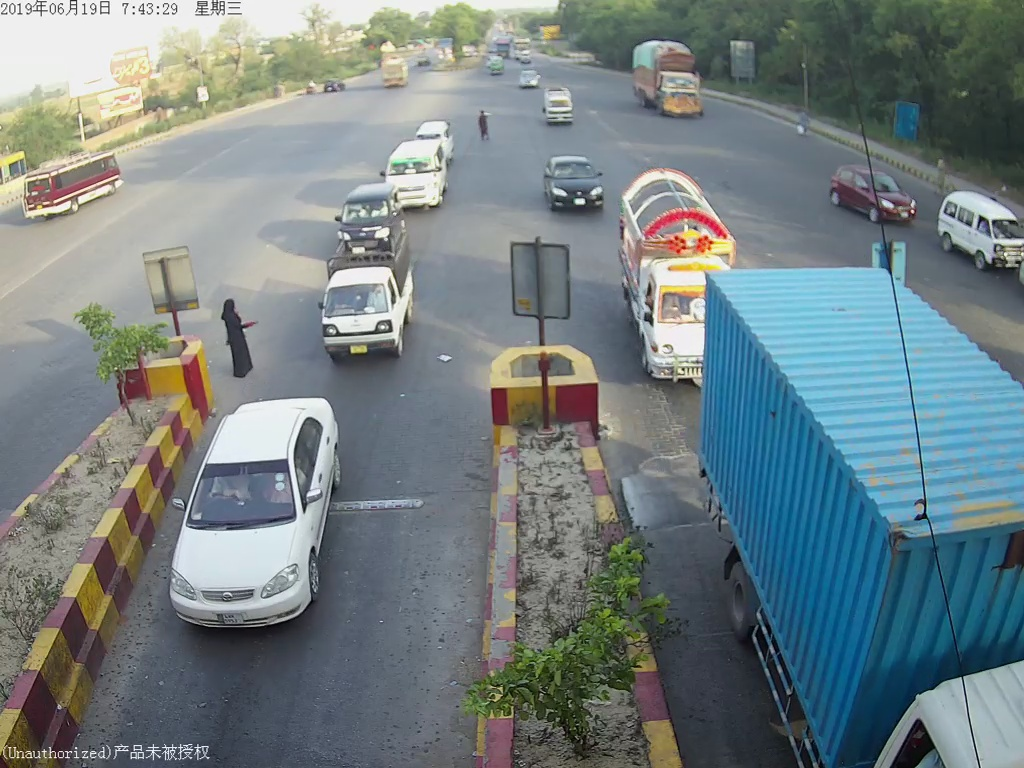Cat-1: (177, 400, 341, 636), (314, 236, 416, 368), (329, 183, 402, 236), (545, 161, 604, 210)
Cat-2: (617, 170, 706, 381)
